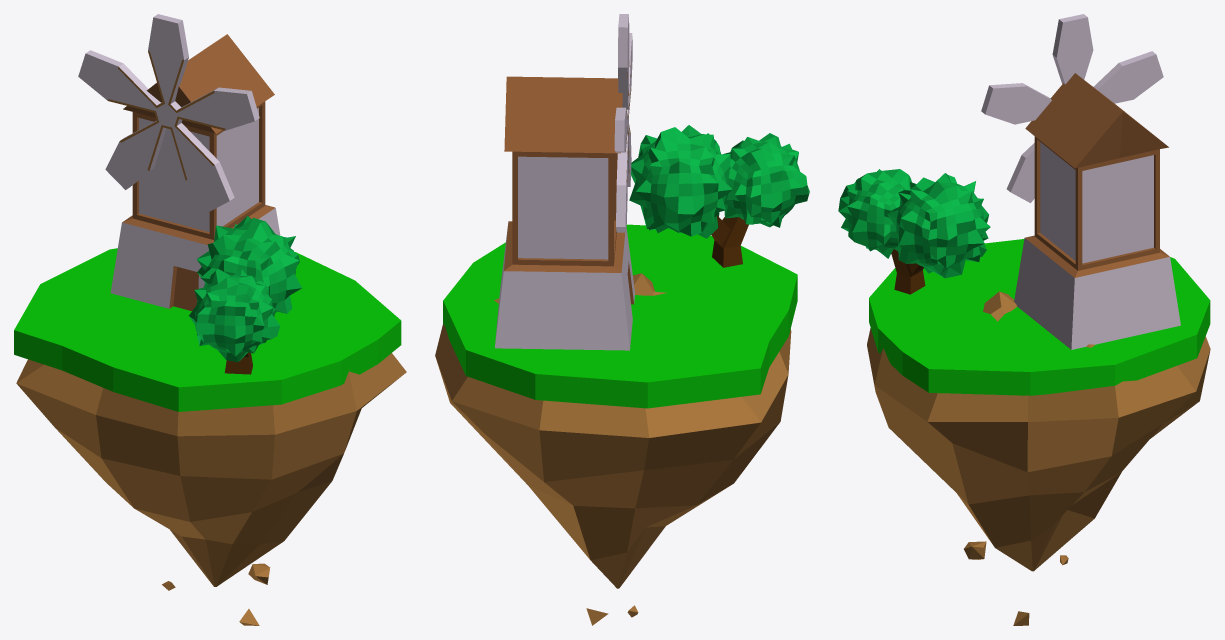
File: low-poly-mill.fbx
3 views of the same model, side by side, from view 1: azimuth 30°, elevation 25°; view 2: azimuth 150°, elevation 25°; view 3: azimuth 270°, elevation 25° (orthographic). The views are drawn at different scales.
Visible parts, largest first — view 1: Island, Green_platform, Mill, propeller, Tree; view 2: Island, Green_platform, Mill, Tree, propeller; view 3: Island, Mill, Green_platform, Tree, propeller.
Boxes of the visible parts, x1,y1,x2,y2 form: Island: [16, 353, 406, 625]; Green_platform: [14, 248, 401, 411]; Mill: [110, 34, 280, 310]; propeller: [78, 14, 259, 211]; Tree: [189, 215, 301, 374]; Island: [435, 273, 791, 625]; Green_platform: [443, 224, 797, 408]; Mill: [495, 76, 634, 350]; Tree: [629, 125, 809, 267]; propeller: [614, 14, 632, 232]; Island: [867, 291, 1210, 625]; Mill: [1014, 73, 1180, 349]; Green_platform: [869, 239, 1210, 395]; Tree: [838, 169, 990, 294]; propeller: [981, 14, 1163, 202].
Bounding box in the file's own units: 105 × 195 × 113.
